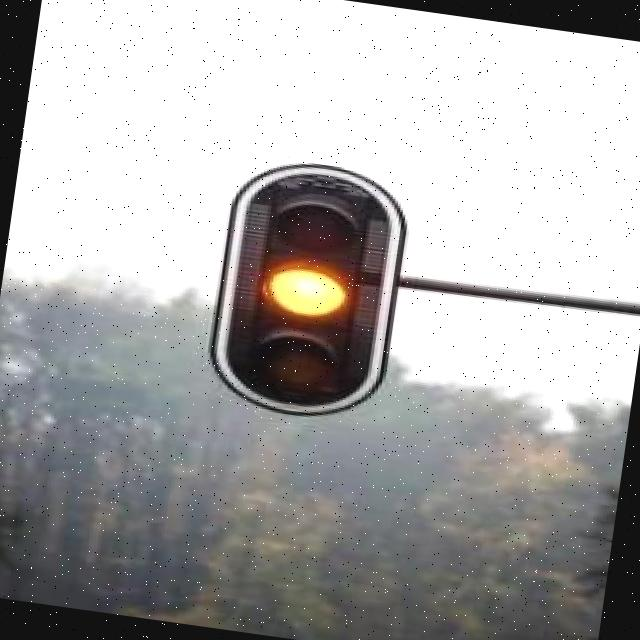yellow_light: (246, 182, 376, 405)
